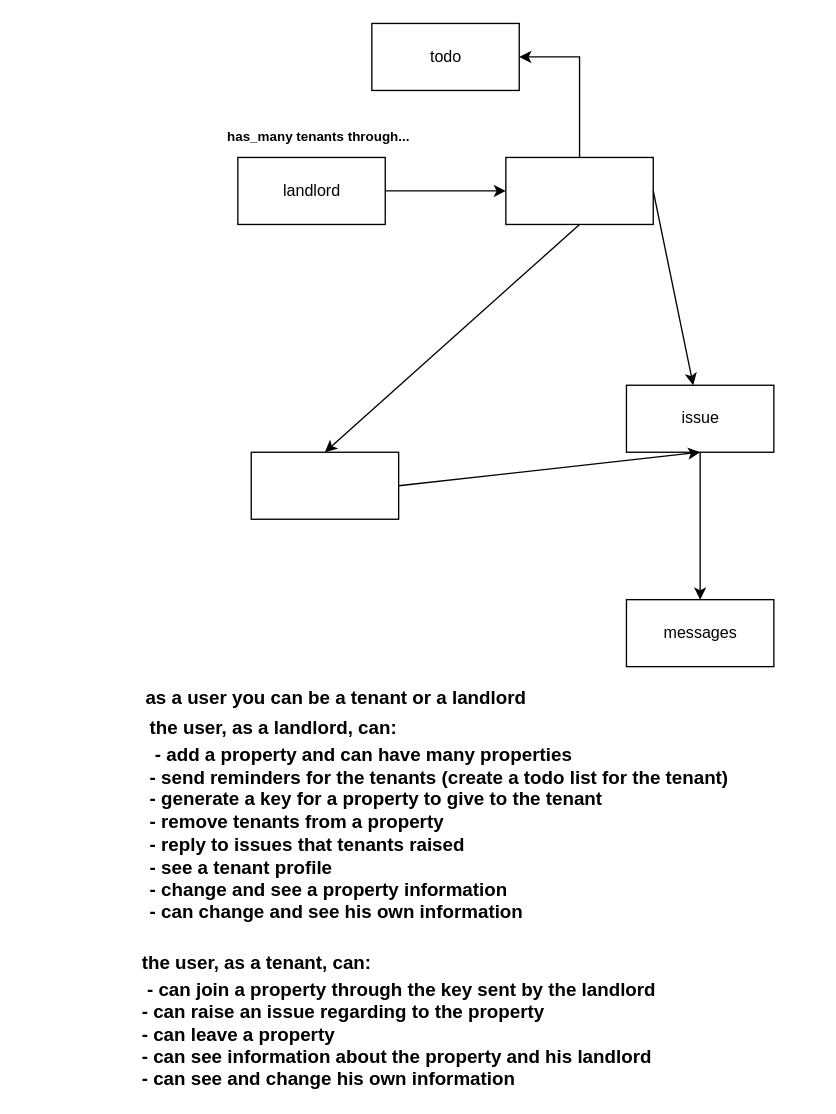
The diagram is 836 pixels wide and 1114 high, and some of its shapes have lost their labels. Each missing label, with the centre of its shape:
property: (579,190)
tenant: (324,485)
